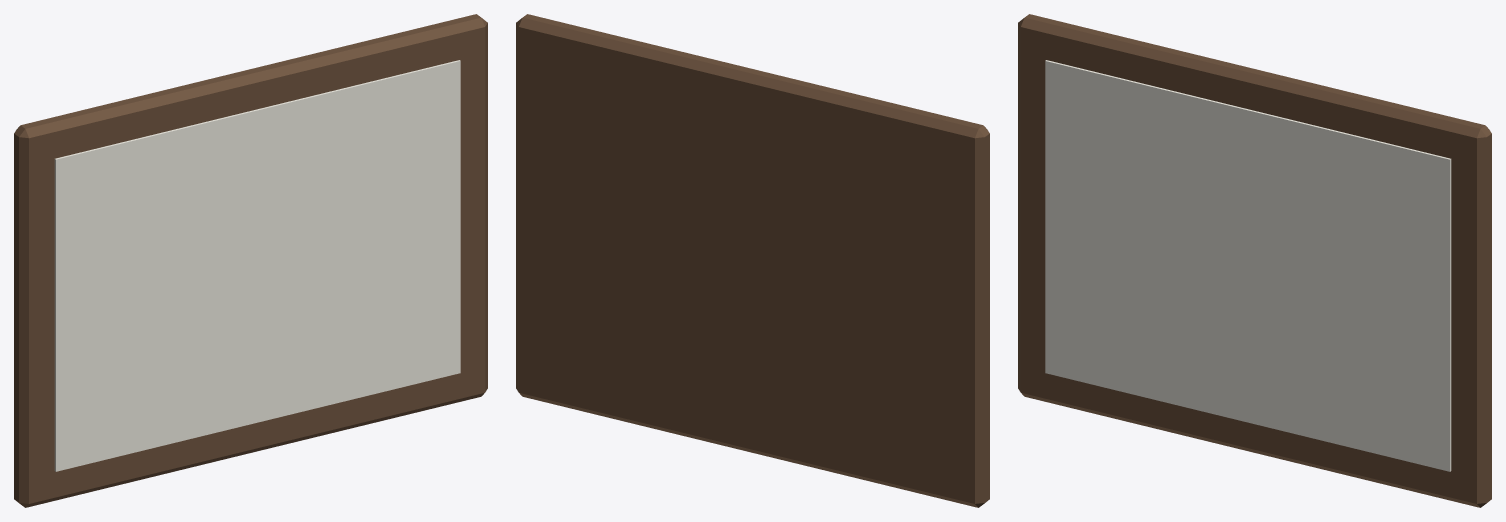
The model's file is photo_frame_wall.fbx.
3 renders of one model, left to right at view 1: azimuth 30°, elevation 25°; view 2: azimuth 150°, elevation 25°; view 3: azimuth 330°, elevation 25°, orthographic.
Visible parts, largest first — view 1: Picture, Frame; view 2: Frame; view 3: Picture, Frame.
Part boxes in pixels (x1,y1,x2,y2): Picture: (54,60,460,471); Frame: (14,14,487,507); Frame: (516,14,989,507); Picture: (1045,60,1451,471); Frame: (1018,14,1491,507).
Bounding box in the file's own units: 0.44 × 0.34 × 0.022.
